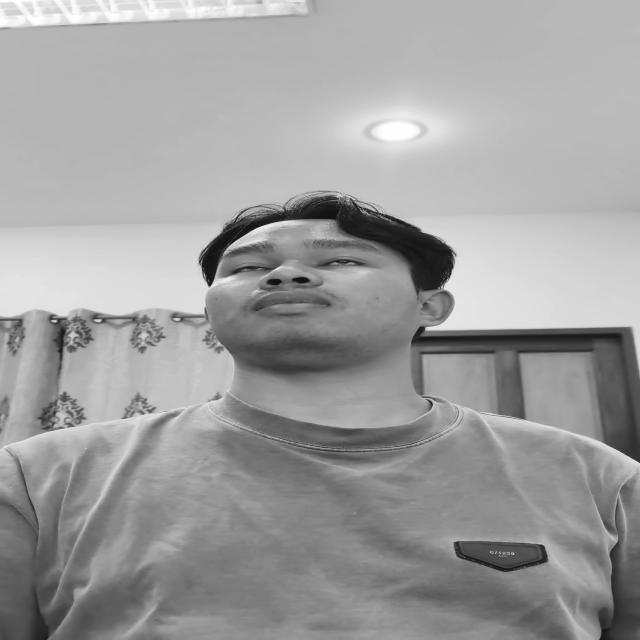ear: (418, 289, 454, 327), (417, 327, 417, 328)
